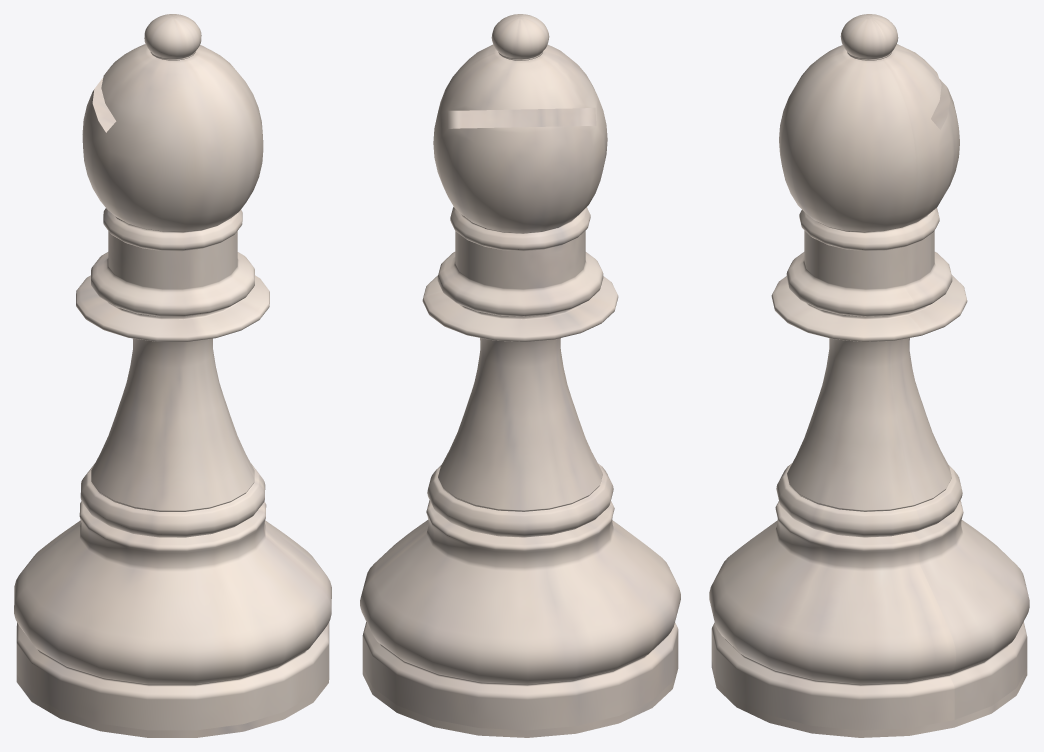
The model's file is bishop.obj.
The picture shows the model from 3 angles, left to right: view 1: azimuth 30°, elevation 25°; view 2: azimuth 150°, elevation 25°; view 3: azimuth 270°, elevation 25°; orthographic projection.
Visible parts, largest first — view 1: chessKitExport.001; view 2: chessKitExport.001; view 3: chessKitExport.001.
Part boxes in pixels (x1,y1,x2,y2): chessKitExport.001: [14, 14, 331, 737]; chessKitExport.001: [360, 14, 680, 737]; chessKitExport.001: [709, 14, 1029, 737].
Size of the model in its own units: 3.62 by 8.16 by 3.62.
